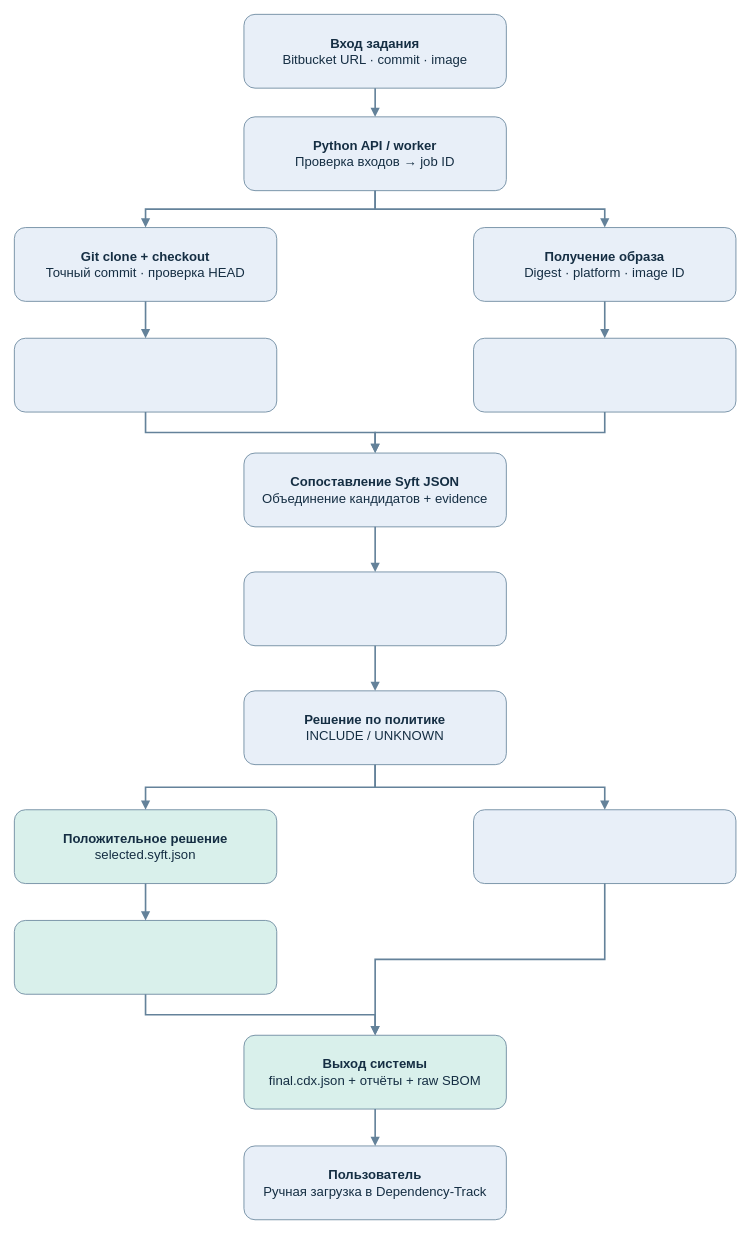
This 750x1234 diagram has some shape labels left out. Here are the shapes that lost their labels. From the top down, the box of each, then its label:
(14, 337, 277, 412): Syft: исходники source.syft.json
(473, 337, 736, 412): Syft: образ image.syft.json · squashed
(243, 571, 506, 646): Проверка свидетельств Точная идентичность → правила
(473, 809, 736, 884): Отчёт решений decisions.json + review.json
(14, 920, 277, 994): CycloneDX JSON Syft convert + provenance + validation
